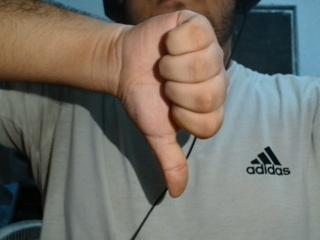Atras: (107, 6, 235, 204)
